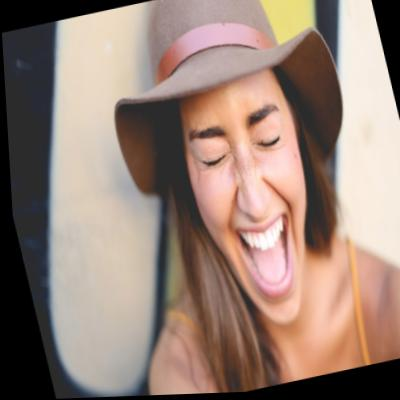happy: (154, 57, 330, 329)
